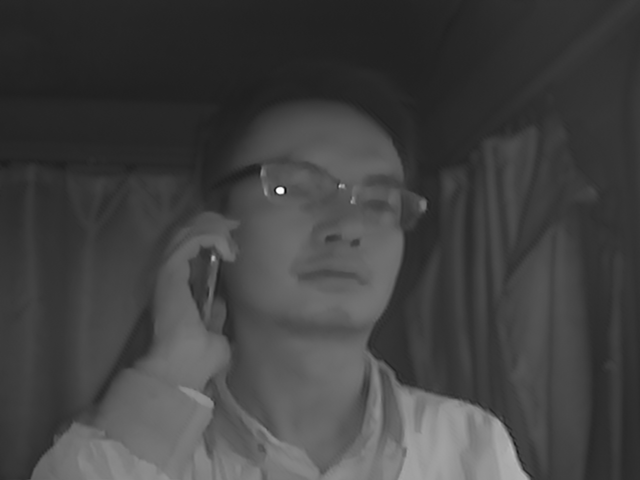hand: (144, 213, 242, 366)
